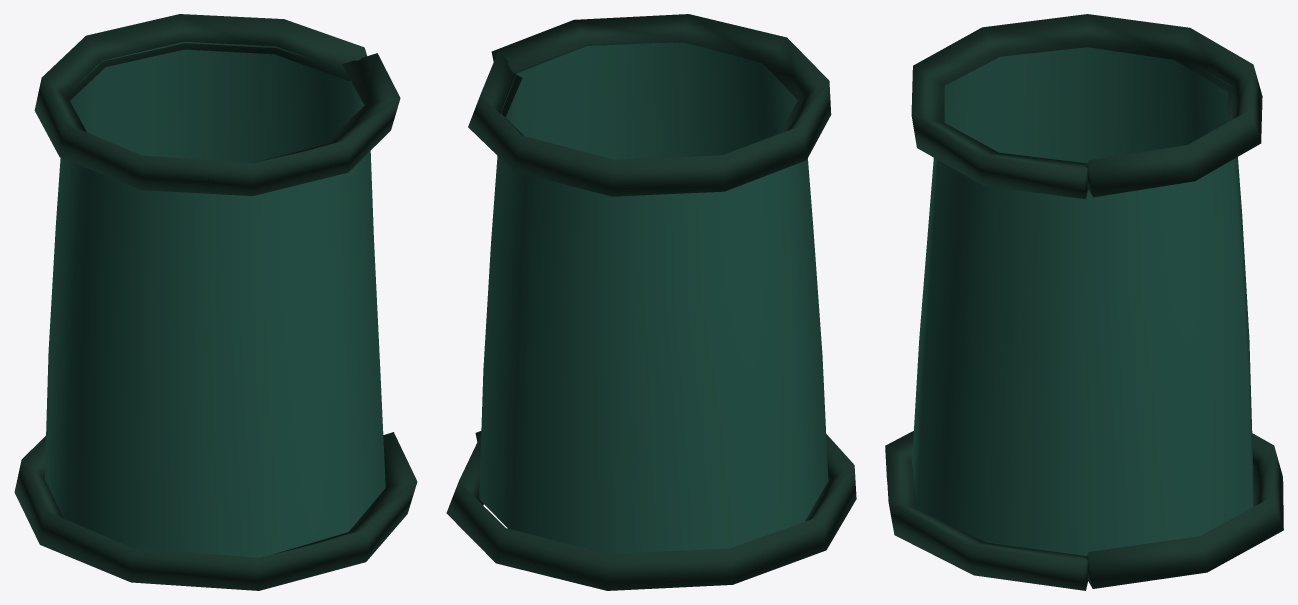
The model's file is vortex_armor_bracer.L.glb.
The picture shows the model from 3 angles, left to right: view 1: azimuth 30°, elevation 25°; view 2: azimuth 150°, elevation 25°; view 3: azimuth 270°, elevation 25°; orthographic projection.
Visible parts, largest first — view 1: vortex_armor_bracer.L; view 2: vortex_armor_bracer.L; view 3: vortex_armor_bracer.L.
Part boxes in pixels (<box>): vortex_armor_bracer.L: <box>14,14,417,590</box>; vortex_armor_bracer.L: <box>446,14,856,590</box>; vortex_armor_bracer.L: <box>885,14,1283,590</box>.
Size of the model in its own units: 0.1504 by 0.1719 by 0.1471.
